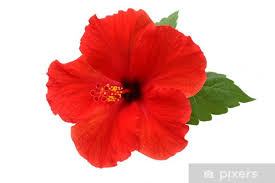hybiscus: (46, 9, 208, 170)
